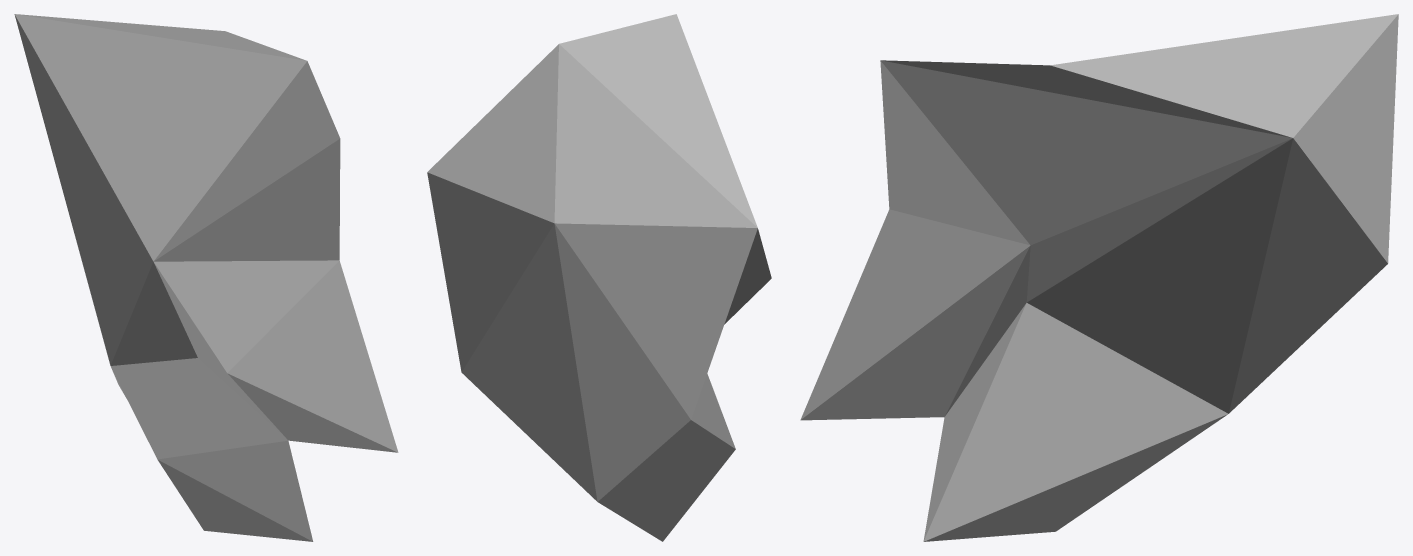
Rendered from Enemy_Necromancer_Hand.fbx.
3 renders of one model, left to right at view 1: azimuth 30°, elevation 25°; view 2: azimuth 150°, elevation 25°; view 3: azimuth 270°, elevation 25°, orthographic. The views are drawn at different scales.
Visible parts, largest first — view 1: Enemy_Necromancer_Hand; view 2: Enemy_Necromancer_Hand; view 3: Enemy_Necromancer_Hand.
Boxes of the visible parts, x1=… form: Enemy_Necromancer_Hand: x1=14, y1=14, x2=398, y2=541; Enemy_Necromancer_Hand: x1=427, y1=14, x2=771, y2=541; Enemy_Necromancer_Hand: x1=800, y1=14, x2=1398, y2=541.
Size of the model in its own units: 26.09 by 57.67 by 59.67.
